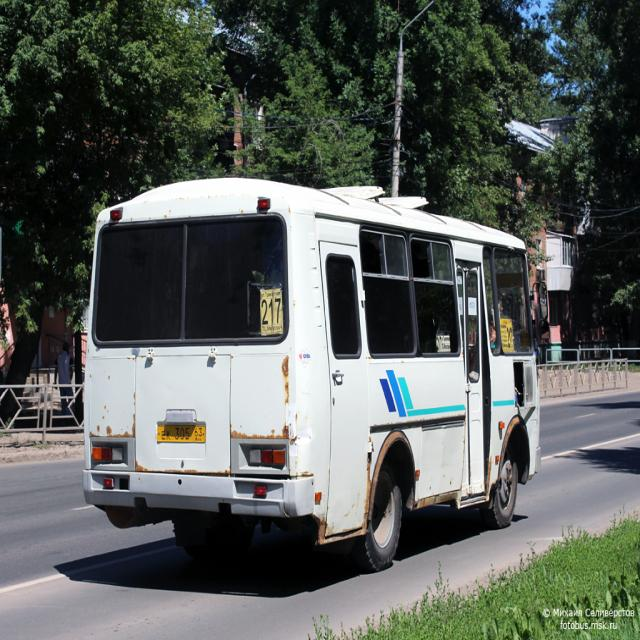number-of-bus: (260, 297, 284, 326)
